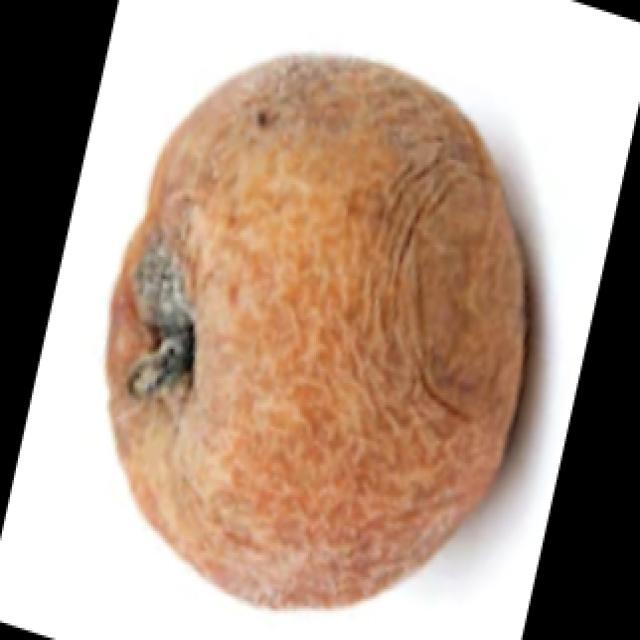Rotten: (83, 64, 552, 604)
